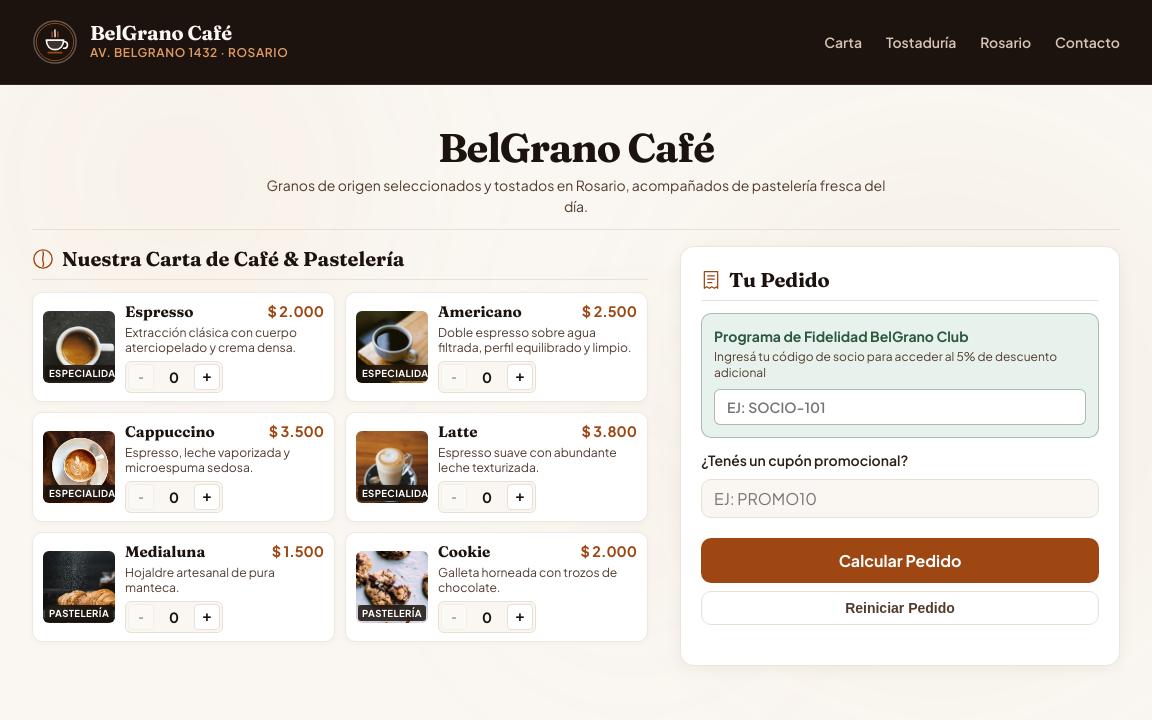
it: BelGrano Café - Pruebas End-to-End (Cypress) › Flujo 1 [UC-01]: Cliente arma un pedido válido con múltiples productos y calcula sin problemas
Check: the heading with test id "brand-title" reads "BelGrano Café", box [438,123,714,172]
Click the button with test id "btn-inc-espresso" at [207, 377], box [194,364,220,390]
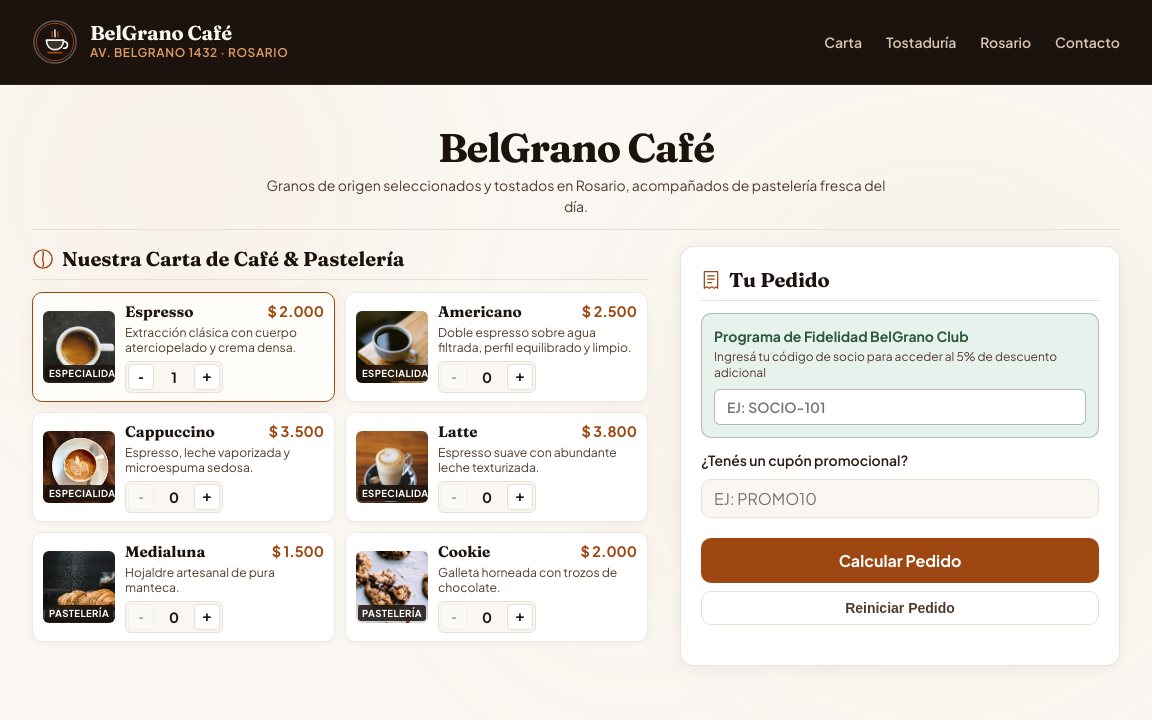
Click the button with test id "btn-inc-espresso" at [207, 377], box [194,364,220,390]
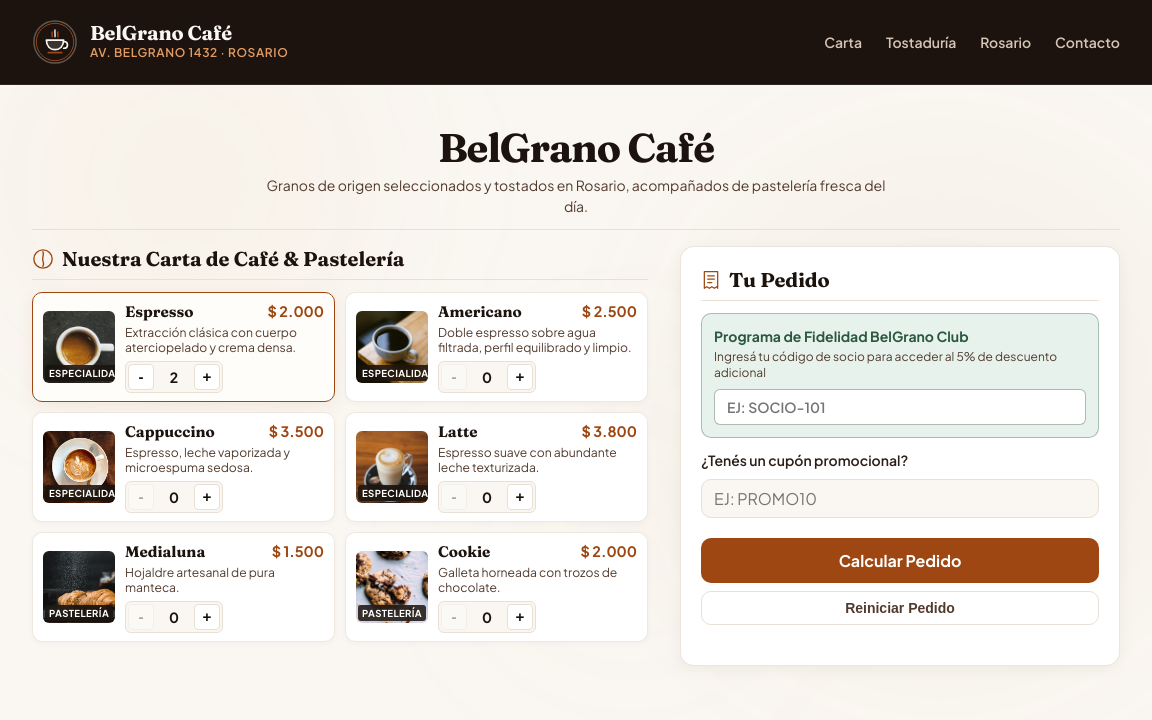
Check: the number field with test id "qty-input-espresso" holds "2", box [156,368,192,386]
Click the button with test id "btn-inc-cappuccino" at [207, 497], box [194,484,220,510]
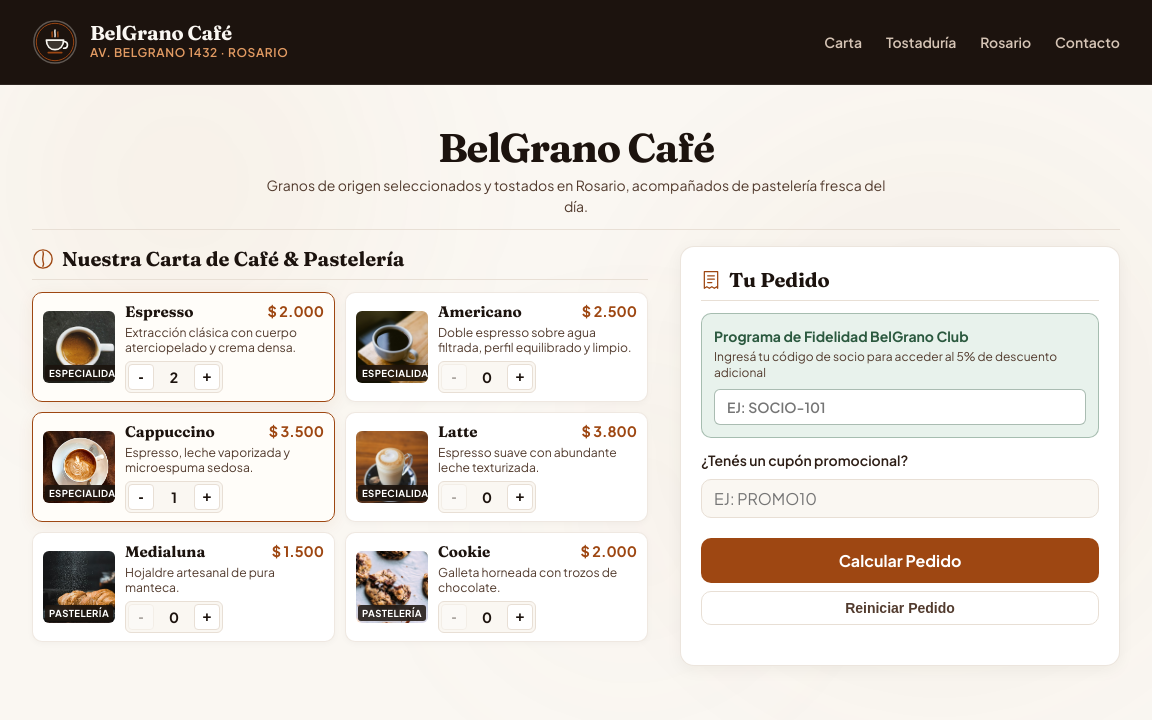
Check: the number field with test id "qty-input-cappuccino" holds "1", box [156,488,192,506]
Click the button with test id "btn-calculate" at [900, 561], box [701,538,1099,583]
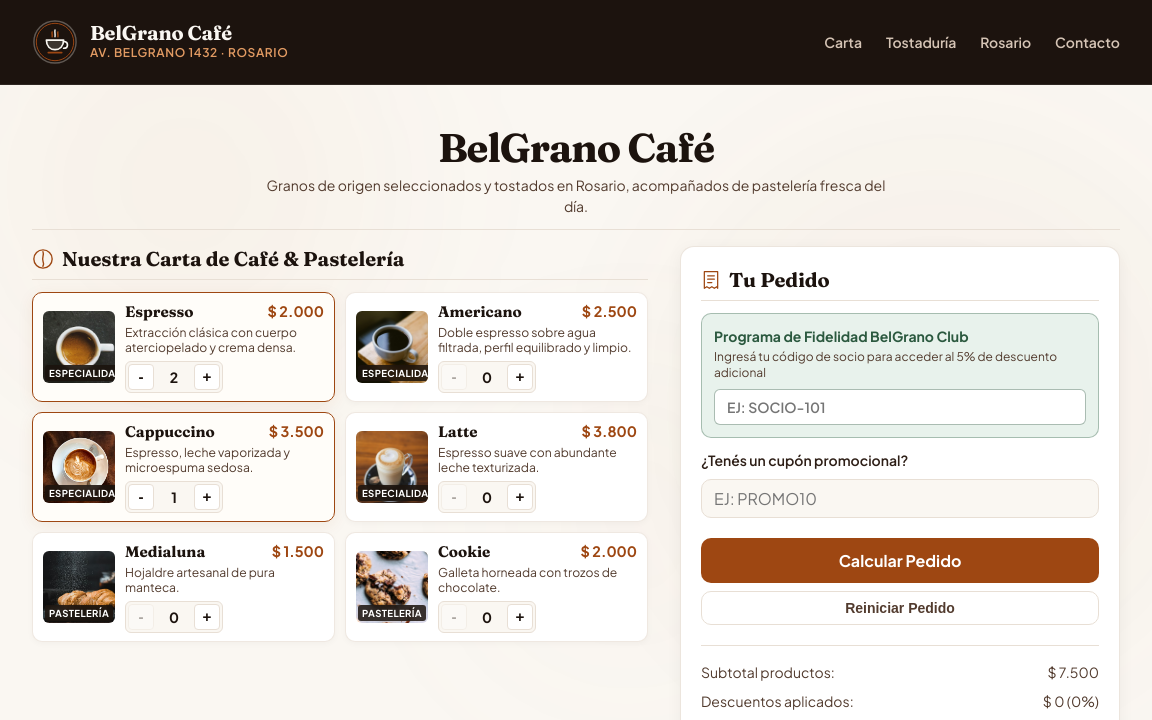
Check: the element with test id "order-receipt" is shown, box [701,645,1099,719]
Check: the text with test id "receipt-subtotal" shows "7.500", box [1047,662,1099,683]
